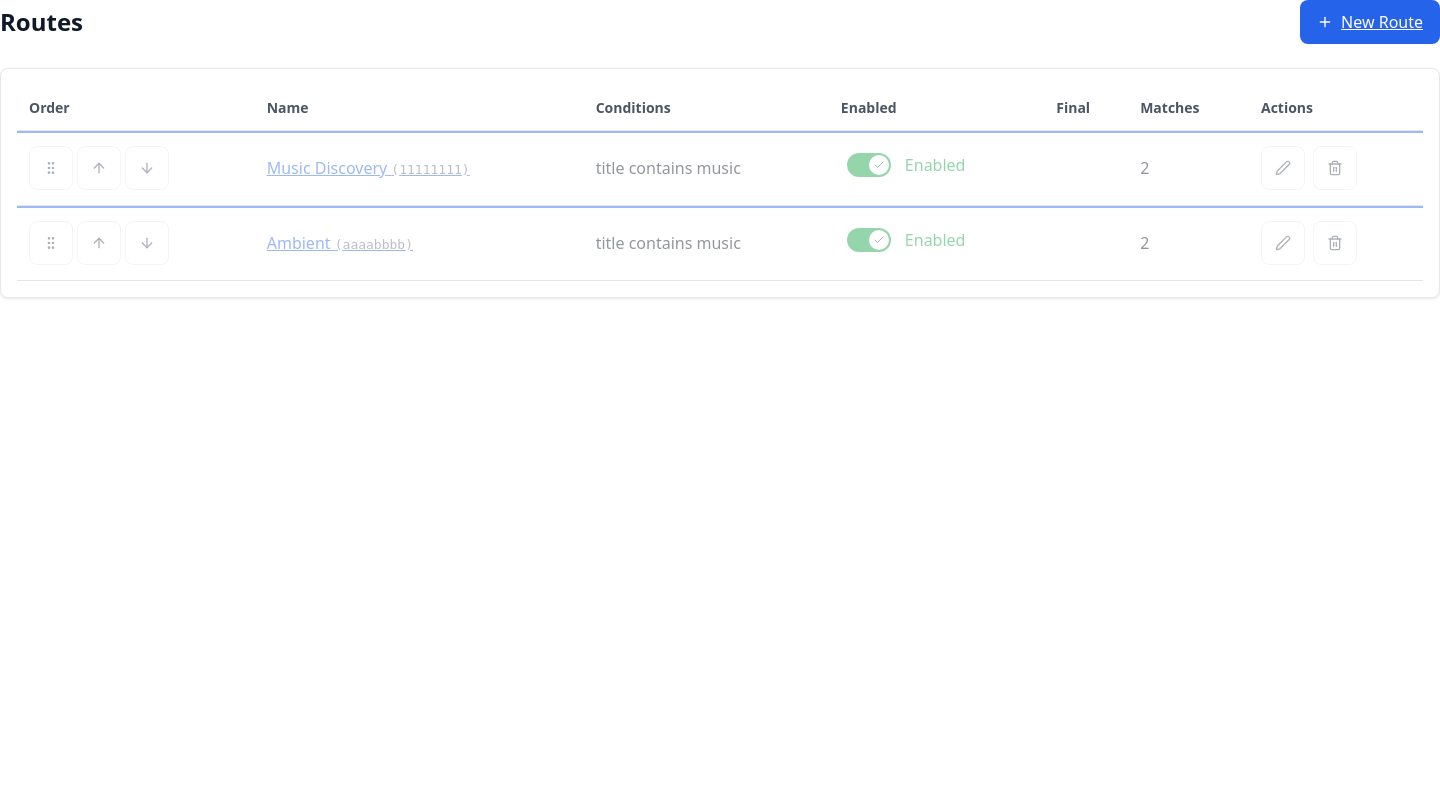
Test: RoutesView › shows a toast when delete fails
Expected: the link "Music Discovery (11111111)" is shown, [267,157,470,179]
Click the button named "Delete route Music Discovery" at (1335,168), box [1313,146,1357,190]
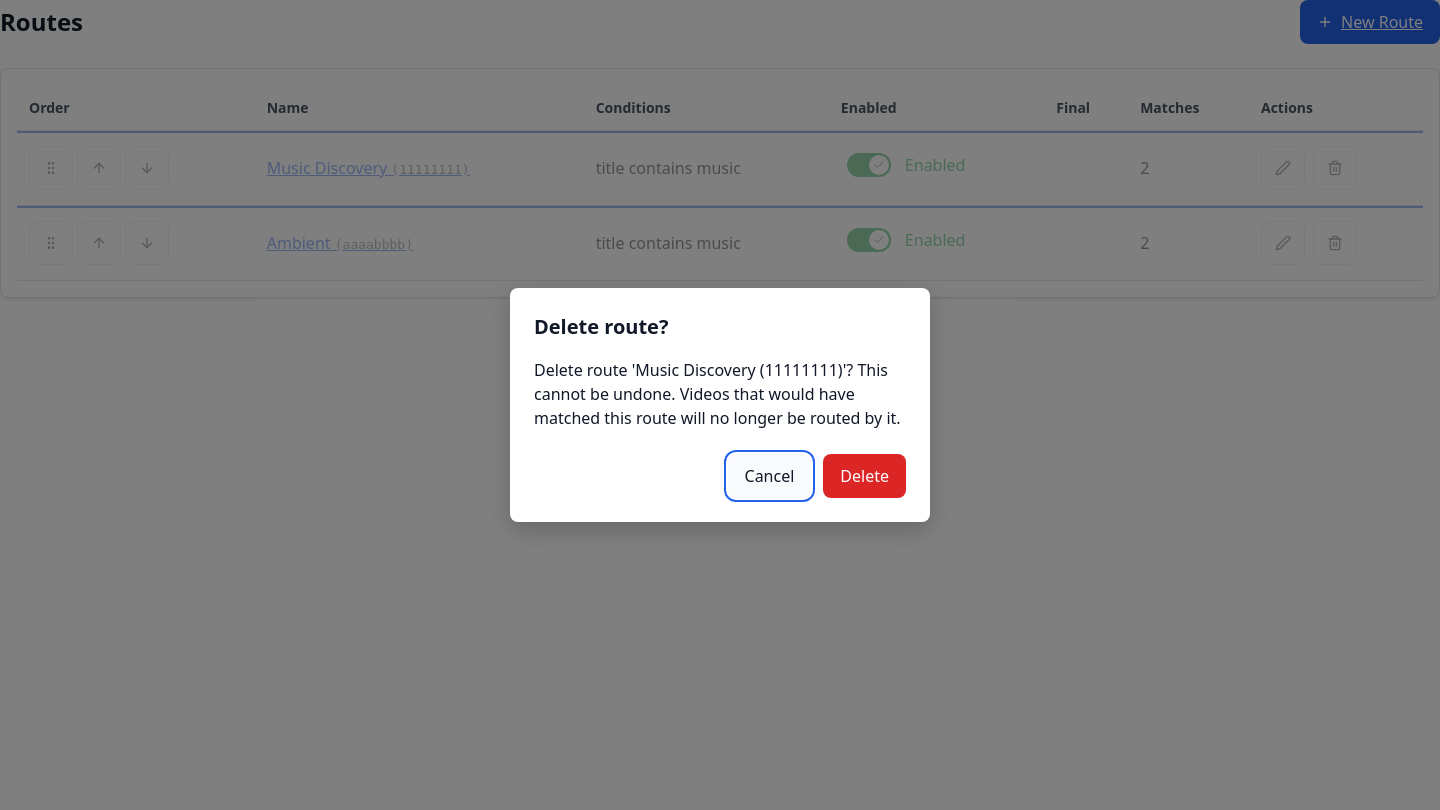
Click the button "Delete" at (865,476), box [823,454,906,498]
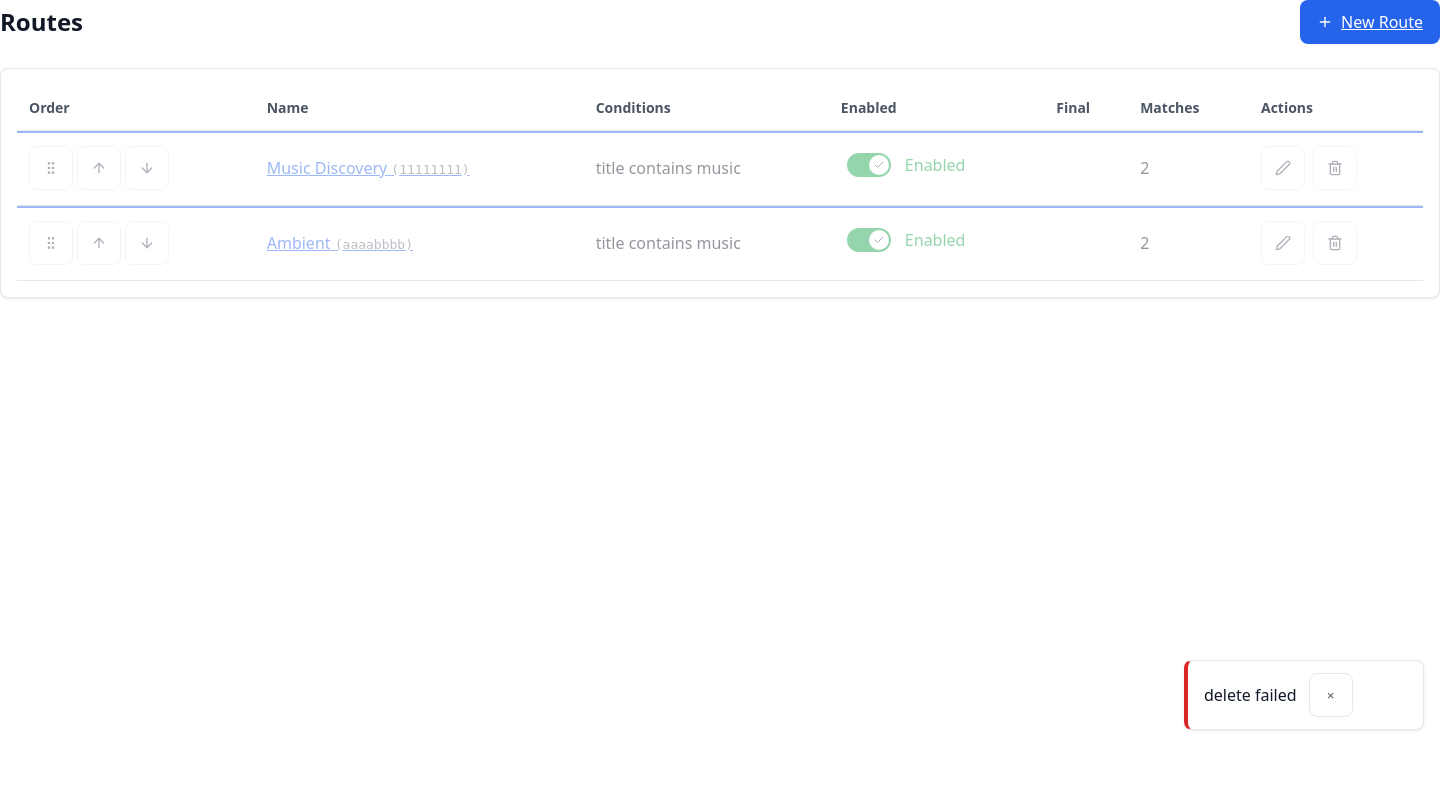
Expected: the link "Music Discovery (11111111)" is shown, [267,157,470,179]
Expected: the message with class "toast" shows "delete failed", [1204,684,1297,706]
